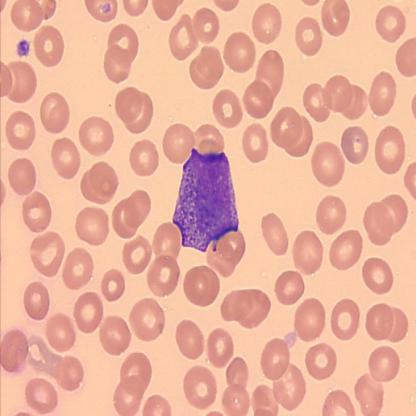Myelocyte: (174, 148, 240, 251)
